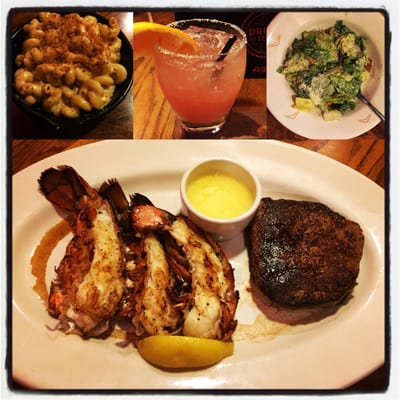curry: (277, 20, 370, 116)
pizza: (149, 18, 248, 135), (179, 158, 262, 241)
sushi: (10, 9, 134, 135)
